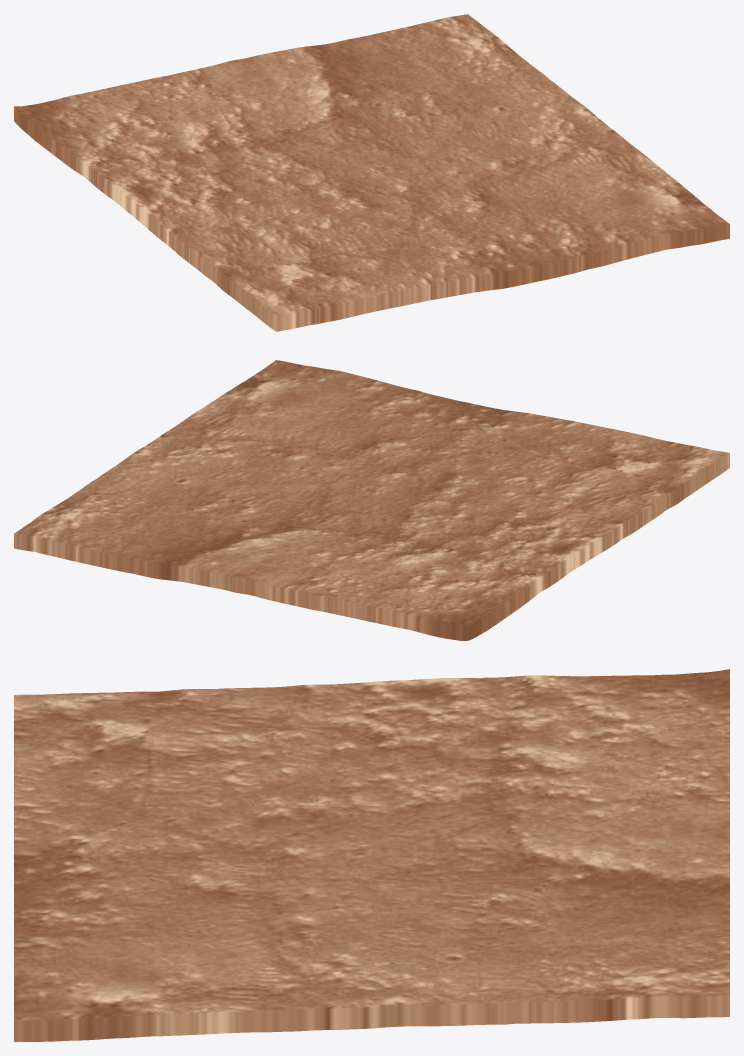
3 renders of one model, top to bottom at view 1: azimuth 30°, elevation 25°; view 2: azimuth 150°, elevation 25°; view 3: azimuth 270°, elevation 25°, orthographic. The views are drawn at different scales.
Visible parts, largest first — view 1: L6_40_28; view 2: L6_40_28; view 3: L6_40_28.
Boxes of the visible parts, x1,y1,x2,y2 form: L6_40_28: [14, 14, 729, 331]; L6_40_28: [14, 360, 729, 640]; L6_40_28: [14, 669, 729, 1041].
Size of the model in its own units: 225 by 24.41 by 225.
1 material, 1 textured.
